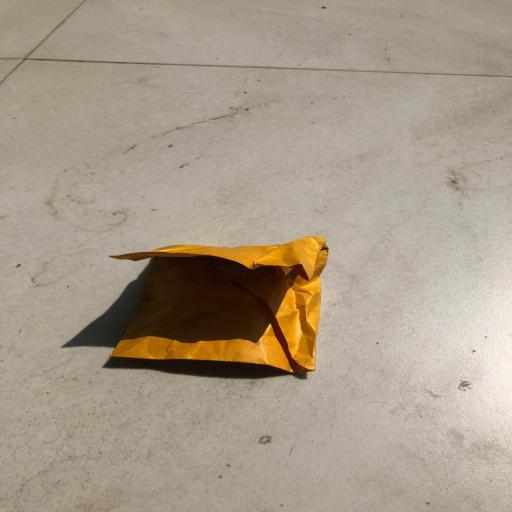waste: (94, 227, 370, 395)
